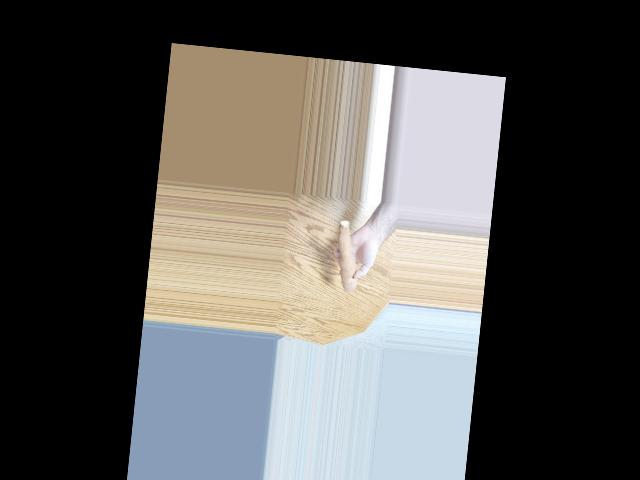sweet_potato: (331, 222, 360, 296)
